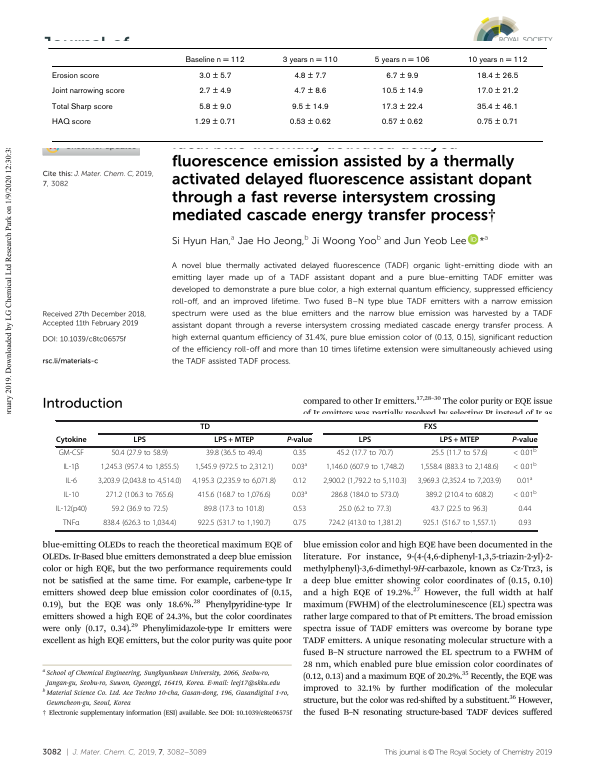borderless: (54, 419, 537, 530), (47, 46, 543, 141)
cell: (191, 477, 277, 487), (322, 477, 408, 487), (97, 477, 182, 487), (417, 477, 502, 487), (100, 463, 180, 473), (194, 463, 274, 473), (325, 463, 405, 473), (419, 463, 499, 473), (50, 87, 125, 97), (197, 491, 272, 501), (102, 519, 177, 529), (197, 519, 272, 529), (327, 519, 402, 529), (422, 519, 497, 529), (105, 491, 175, 501), (330, 491, 400, 501), (424, 491, 494, 501), (50, 102, 113, 112), (466, 55, 528, 65), (203, 505, 265, 515), (184, 55, 245, 65), (110, 449, 169, 459), (430, 449, 489, 459), (110, 505, 169, 515), (430, 505, 489, 515), (205, 449, 263, 459), (336, 449, 394, 459), (281, 55, 338, 65), (373, 55, 430, 65), (338, 505, 392, 515), (50, 71, 99, 81), (475, 71, 519, 81), (475, 87, 519, 97), (475, 102, 519, 112), (475, 118, 519, 128), (380, 87, 423, 97), (380, 102, 423, 112), (193, 118, 236, 128), (288, 118, 331, 128), (380, 118, 423, 128), (213, 436, 255, 446), (50, 118, 91, 128), (439, 436, 480, 446), (290, 102, 329, 112), (198, 71, 232, 81), (293, 71, 327, 81), (385, 71, 419, 81), (198, 87, 232, 97), (293, 87, 327, 97), (198, 102, 232, 112), (55, 505, 88, 515), (55, 436, 87, 446), (512, 448, 537, 459), (512, 462, 537, 473), (512, 490, 537, 501), (286, 436, 313, 446), (511, 436, 538, 446), (58, 449, 85, 459), (291, 462, 308, 473), (516, 476, 533, 487), (291, 490, 308, 501), (62, 463, 80, 473), (62, 519, 80, 529), (63, 491, 80, 501), (132, 436, 147, 446), (292, 449, 307, 459), (292, 477, 307, 487), (292, 505, 307, 515), (517, 505, 532, 515), (292, 519, 307, 529), (517, 519, 532, 529), (358, 436, 372, 446), (64, 477, 78, 487), (423, 423, 438, 432), (199, 423, 211, 432)
